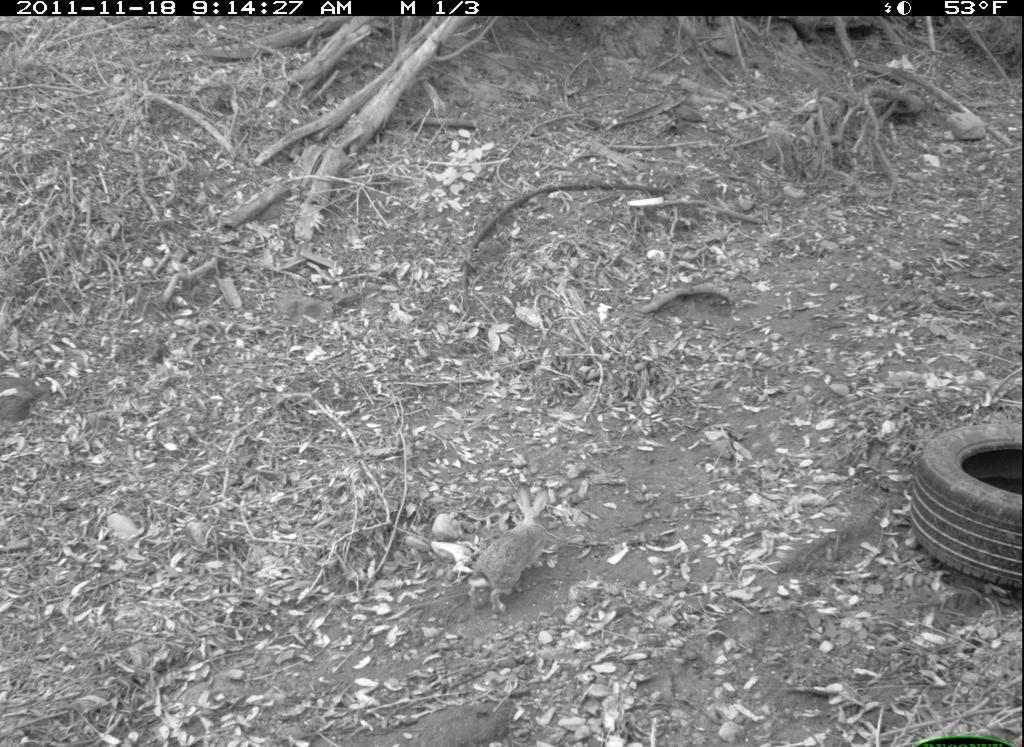rabbit: (463, 482, 580, 607)
